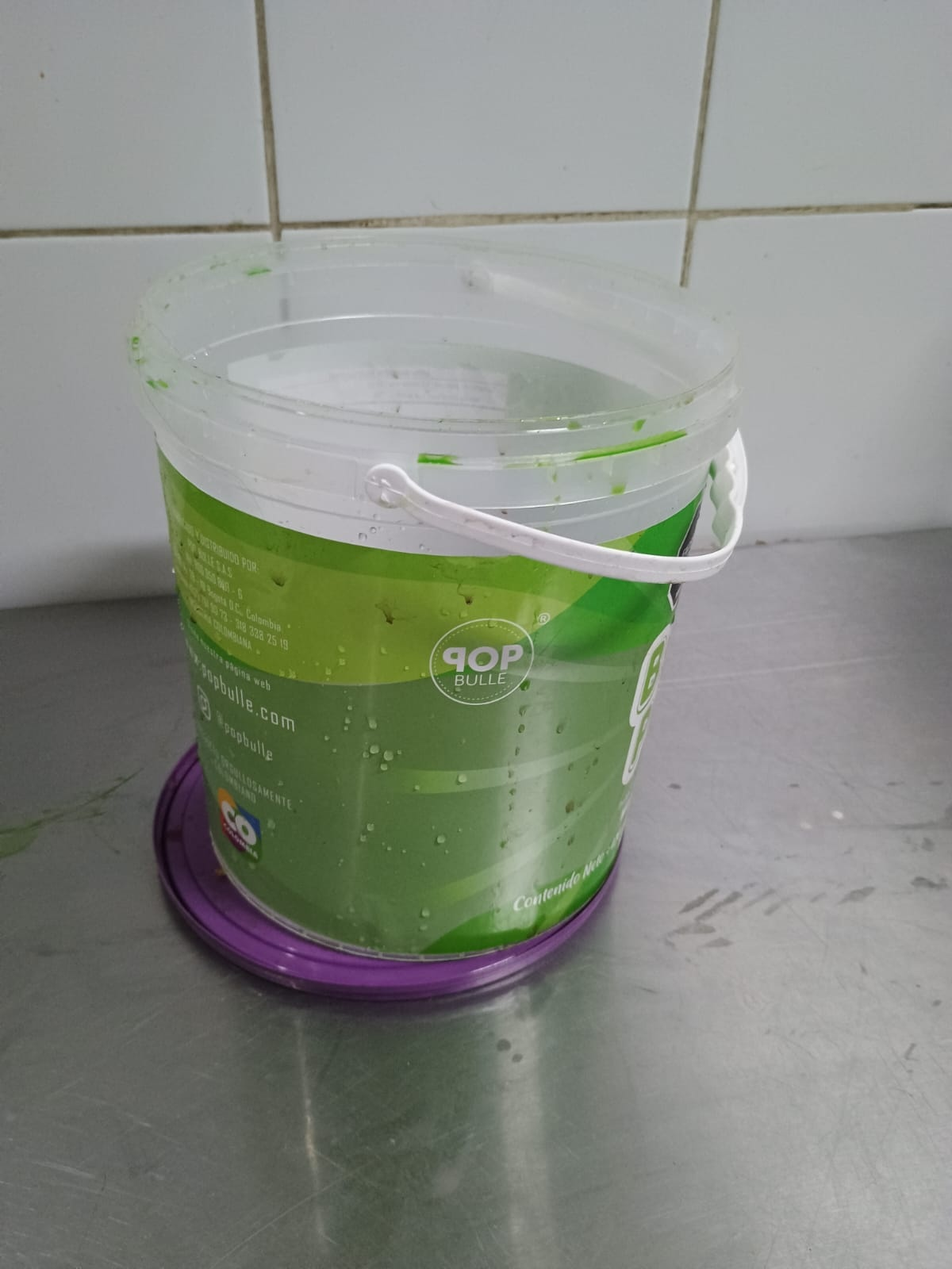Plastico: (113, 237, 751, 1002)
